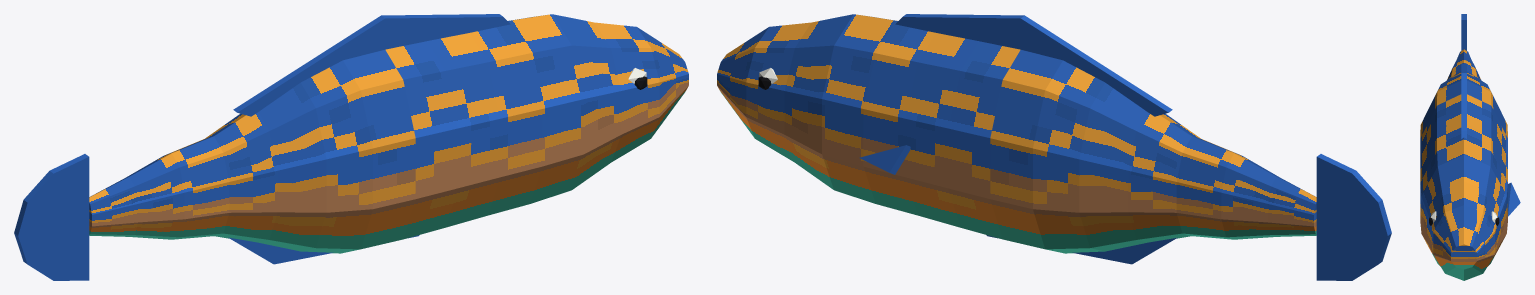
Rendered from mandarin_dragonet.glb.
3 renders of one model, left to right at view 1: azimuth 30°, elevation 25°; view 2: azimuth 150°, elevation 25°; view 3: azimuth 270°, elevation 25°, orthographic. The views are drawn at different scales.
Visible parts, largest first — view 1: fish_mandarin_dragonet; view 2: fish_mandarin_dragonet; view 3: fish_mandarin_dragonet.
Part boxes in pixels (<box>): fish_mandarin_dragonet: <box>14,14,688,280</box>; fish_mandarin_dragonet: <box>717,14,1391,280</box>; fish_mandarin_dragonet: <box>1420,14,1520,280</box>.
Size of the model in its own units: 1.12 by 0.3658 by 0.2178.
4 materials, 1 textured.
